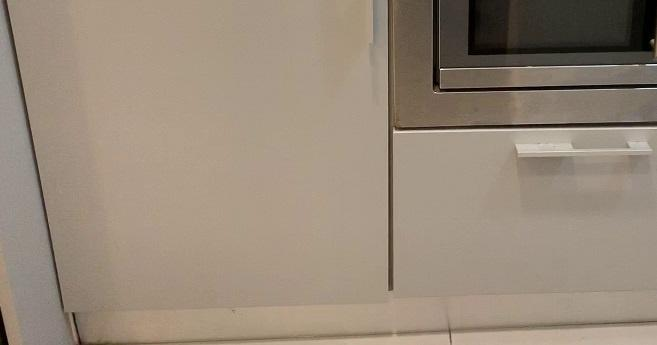cabinet_door: (398, 130, 657, 296)
handle: (511, 140, 654, 165)
